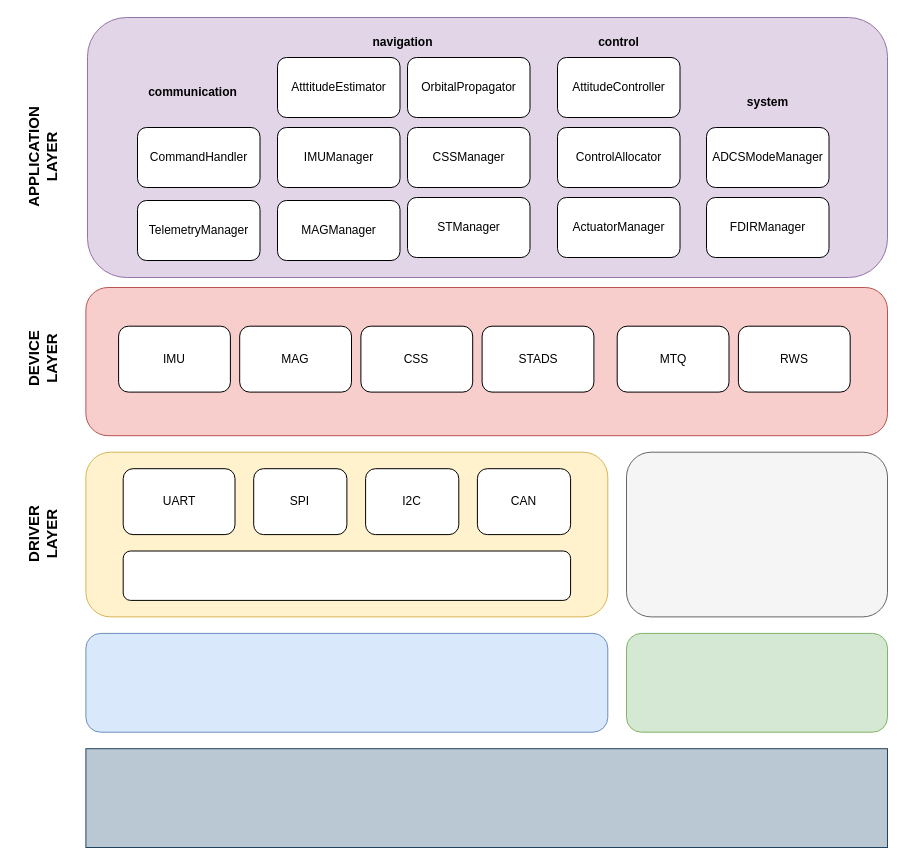
Image size: 905x865. Some labels were removed from this diagram. The centre of each missing label's shape, as x and y in pixels:
FREERTOS: the point at 757,682
IO: the point at 346,575
OPERATING SYSTEM ABSTRACTION LAYER (OSAL): the point at 757,534
STM32 HARDWARE ABSTRACTION LAYER (HAL): the point at 346,682
STM32 MICROCONTROLLER: the point at 486,798
